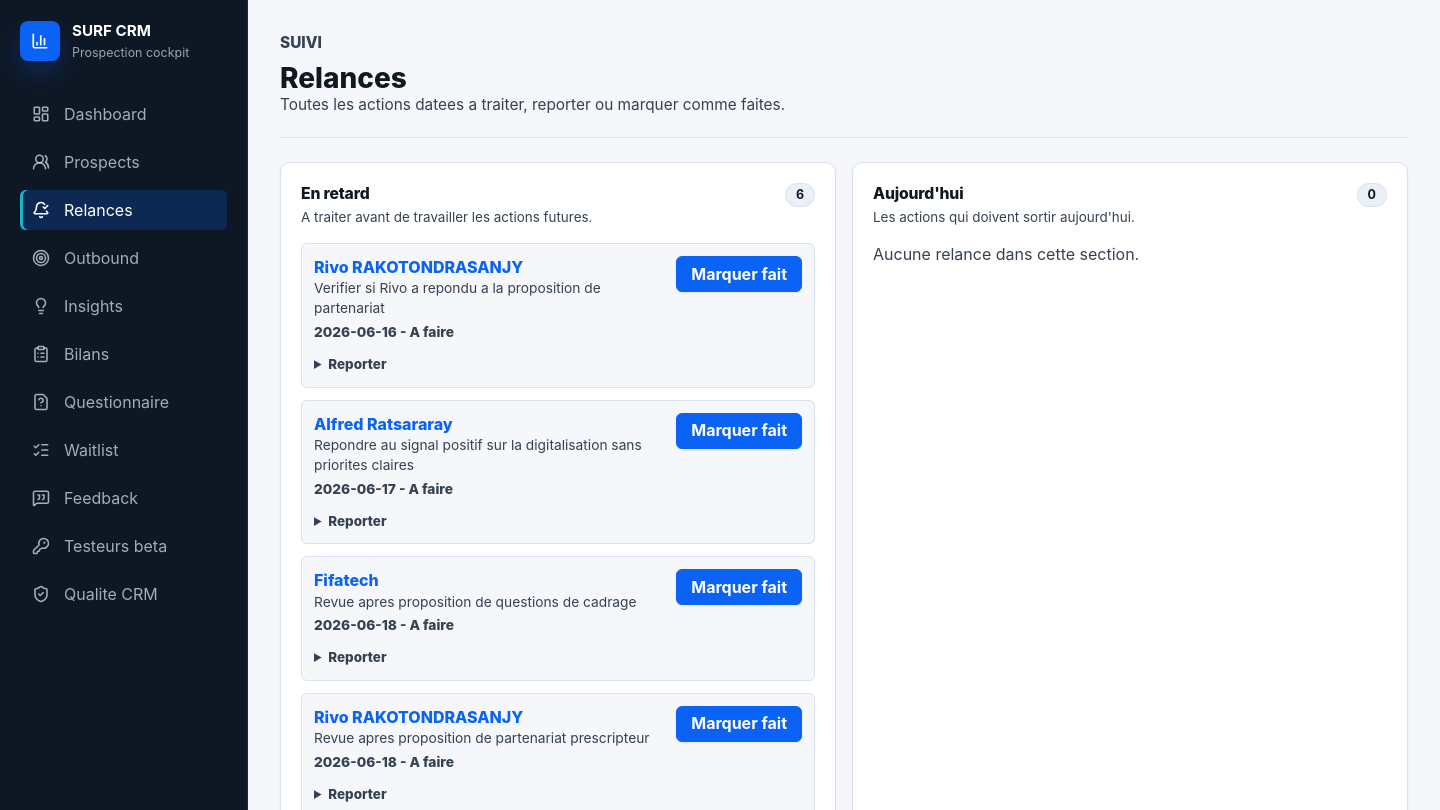
App shell › renders relances and marks one as done
Expected: the heading "Relances" is shown, [280,61,407,95]
Expected: the heading "En retard" is shown, [301,184,370,203]
Click the 1st button "Marquer fait": (739, 274) [676,256,802,292]
(page scrolled)
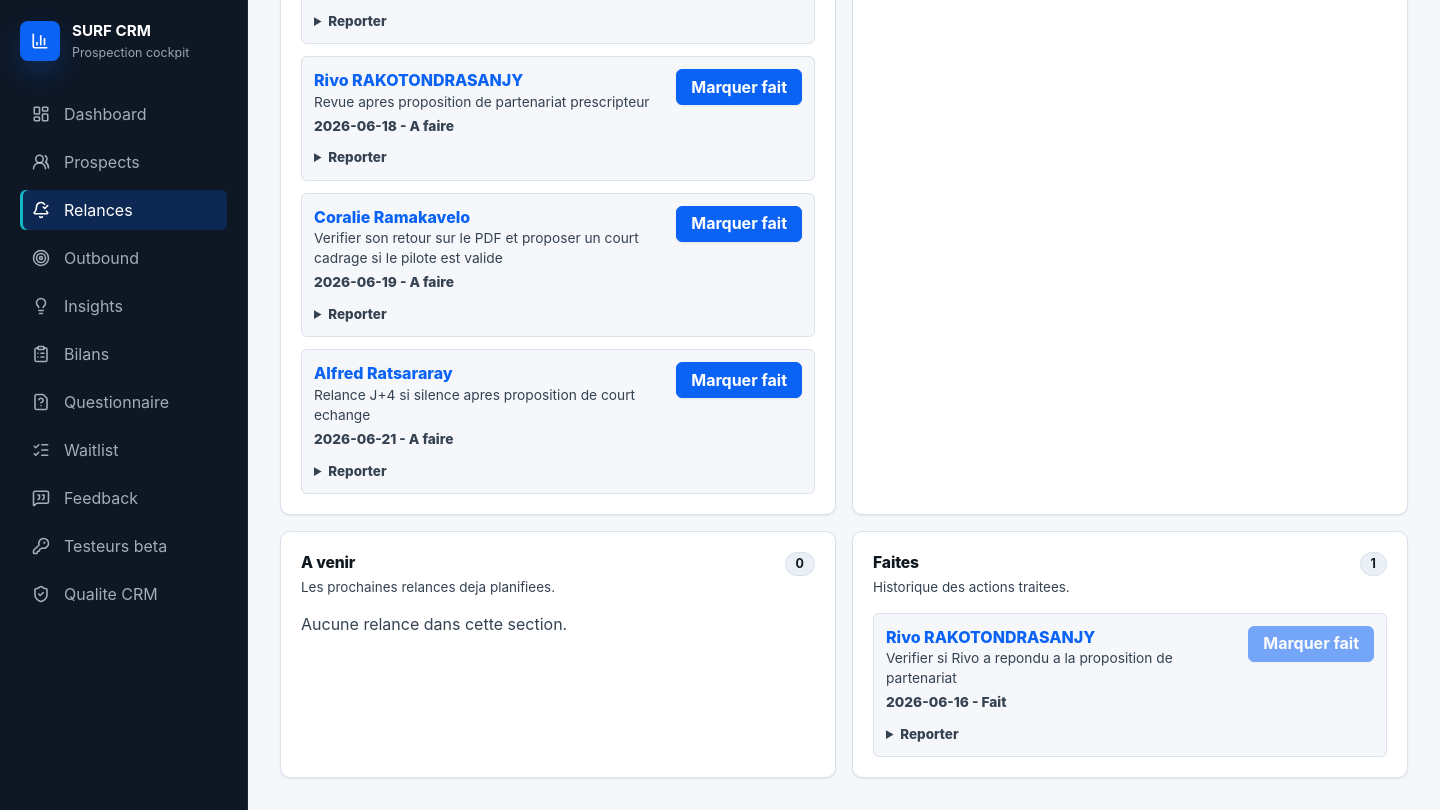
Now the text "2026-06-16 - Fait" is shown, box [886,694,1006,710]
